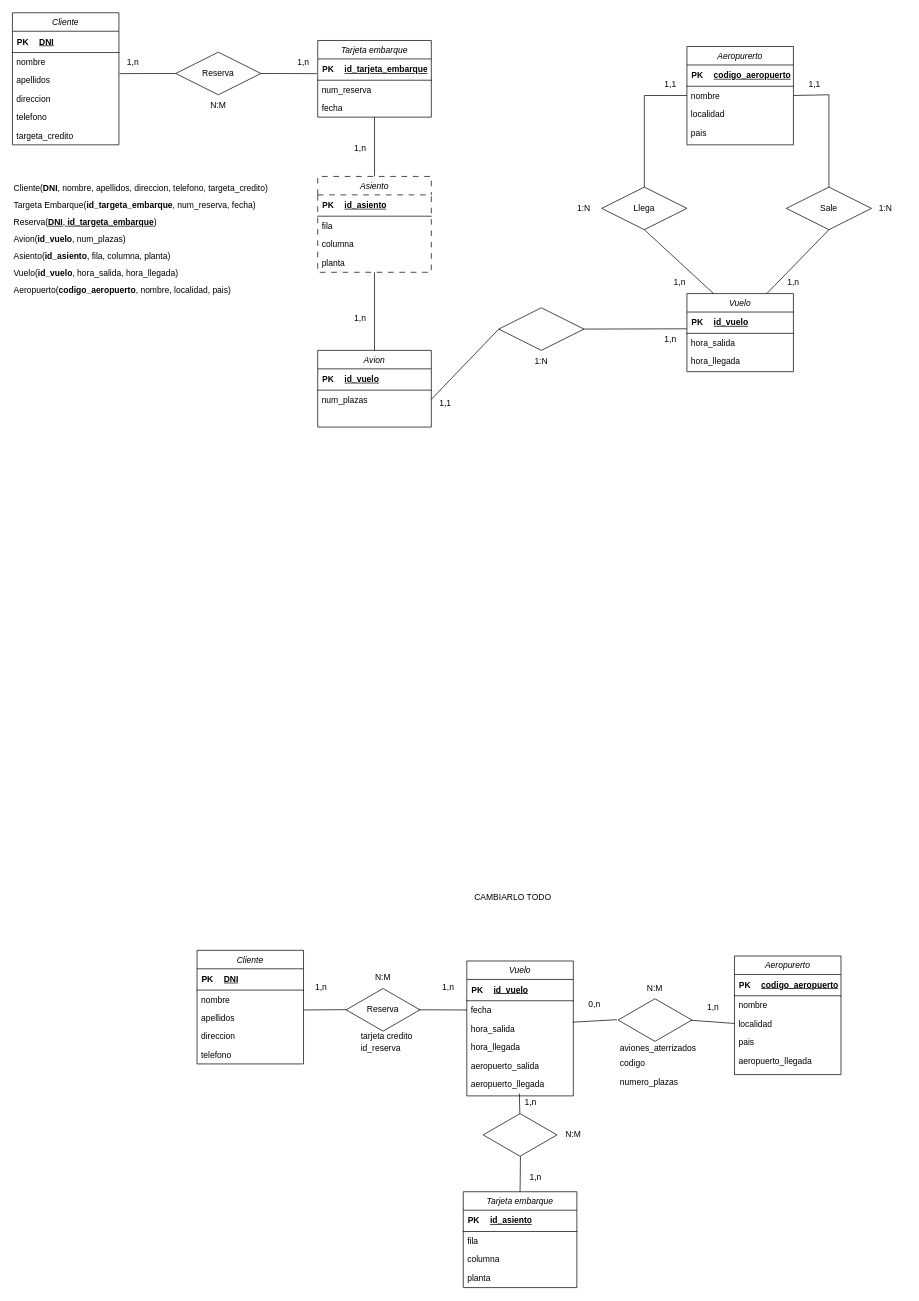
This 919x1301 diagram has some shape labels left out. The centre of each missing label's shape, as x and y in pixels:
"Genera" belongs at pixel 519 1134.
"Hace" belongs at pixel 541 328.
"Viaja" belongs at pixel 654 1019.
